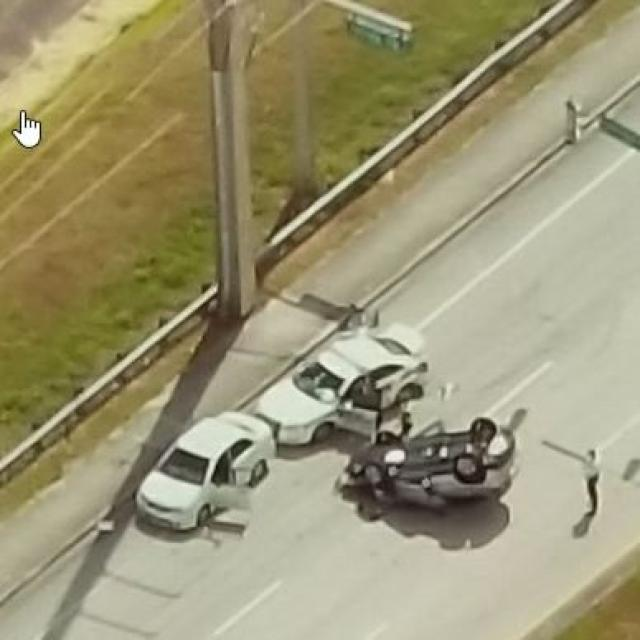traffic_incident: (256, 294, 422, 464), (336, 416, 524, 520)
